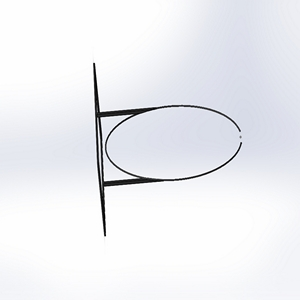circle: (85, 60, 243, 237)
